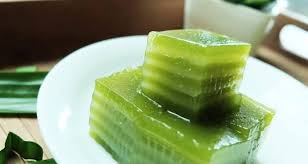kanomchan: (84, 57, 277, 164), (139, 21, 259, 122)
